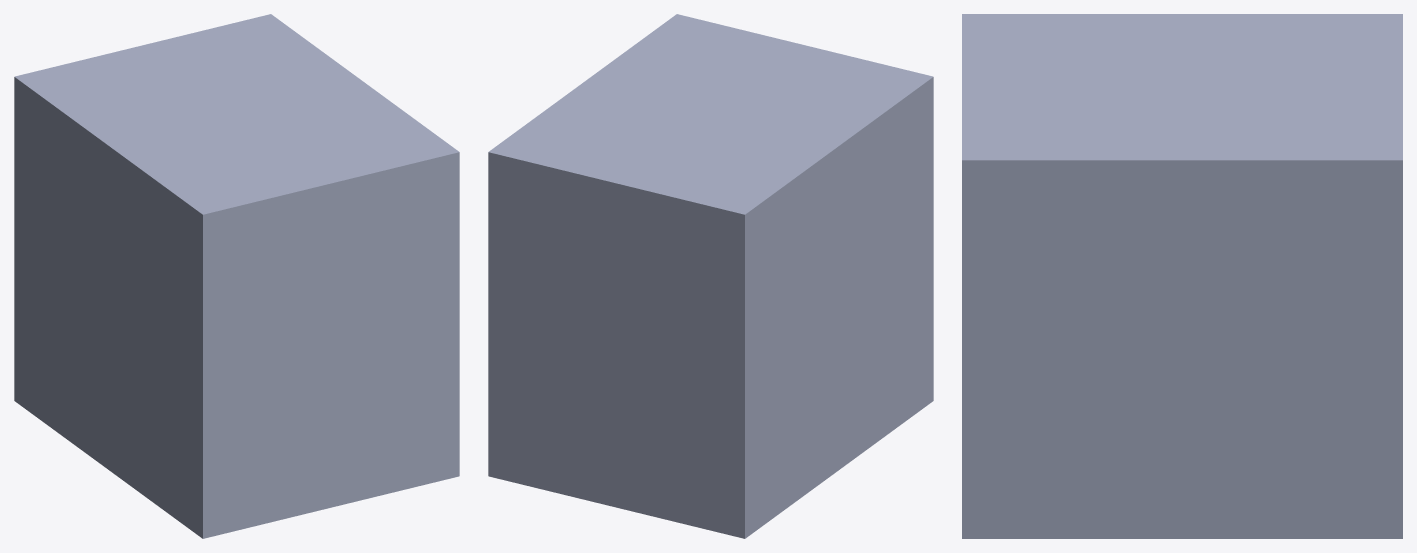
The picture shows the model from 3 angles, left to right: view 1: azimuth 30°, elevation 25°; view 2: azimuth 150°, elevation 25°; view 3: azimuth 270°, elevation 25°; orthographic projection. The views are drawn at different scales.
Size of the model in its own units: 1.53 by 1.85 by 1.95.
